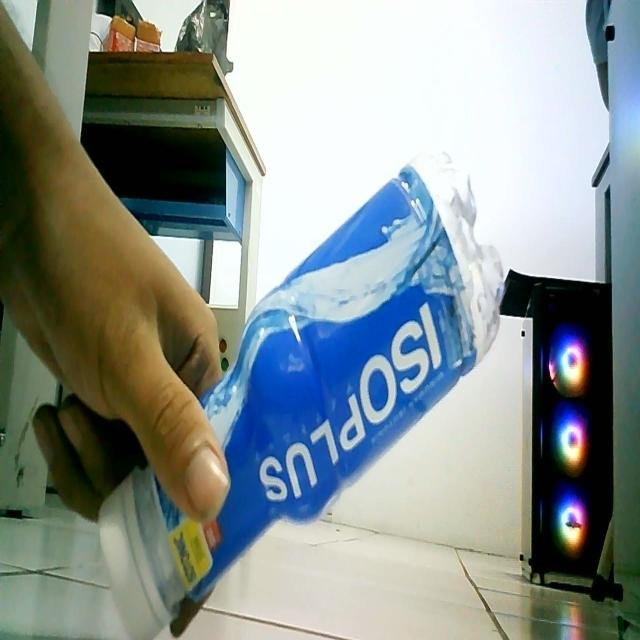botol: (54, 118, 530, 640)
